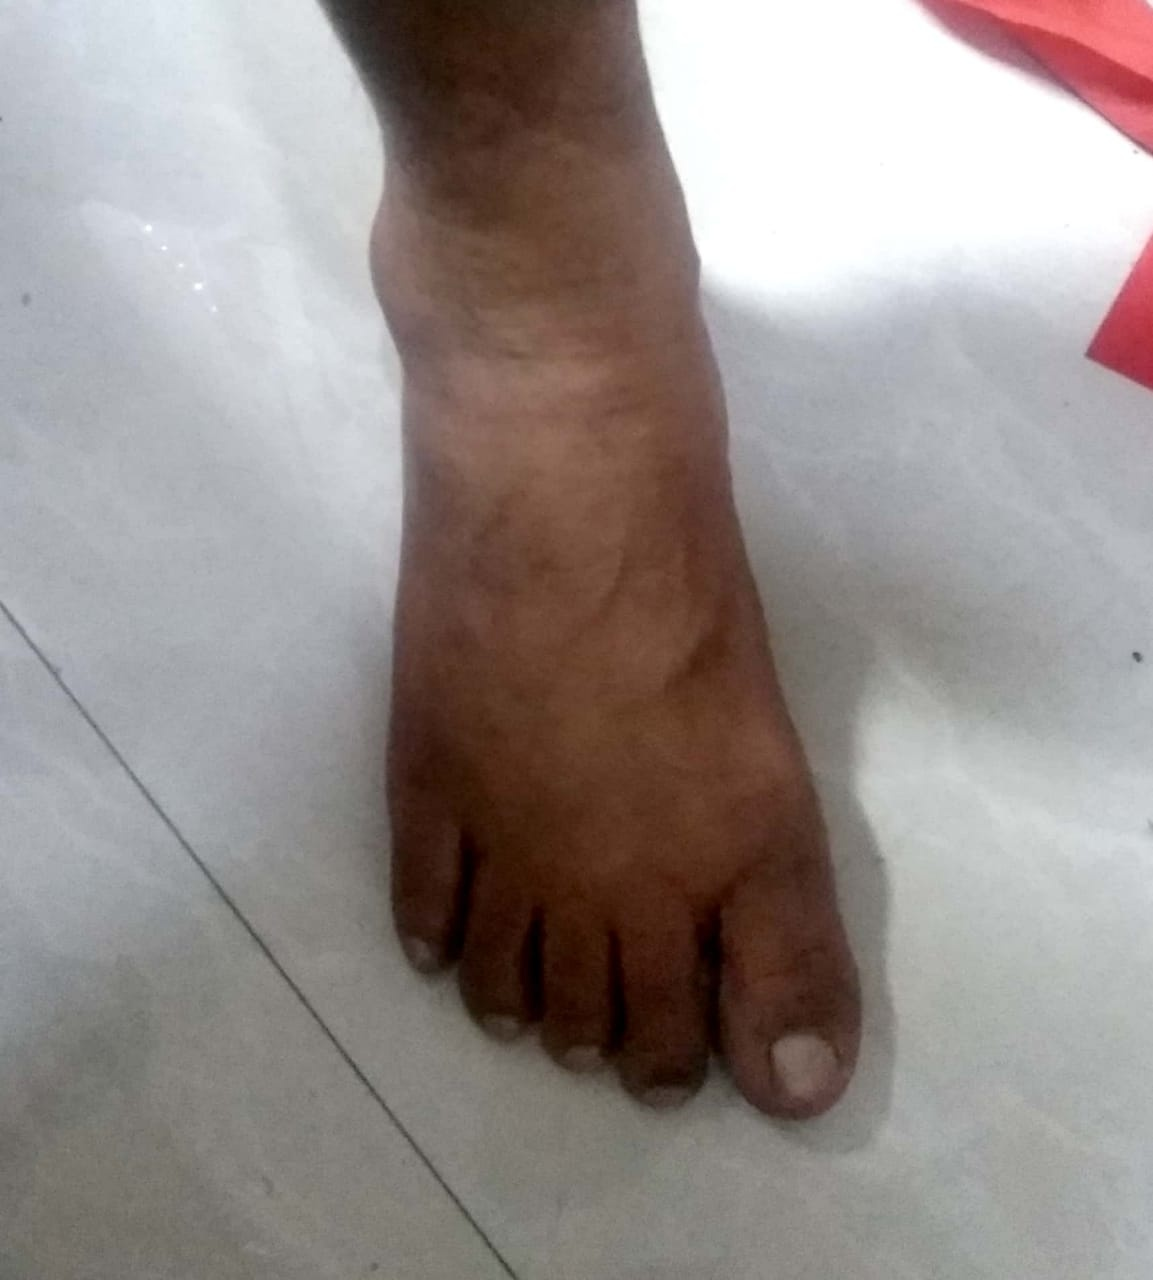feet: (260, 115, 873, 1129)
